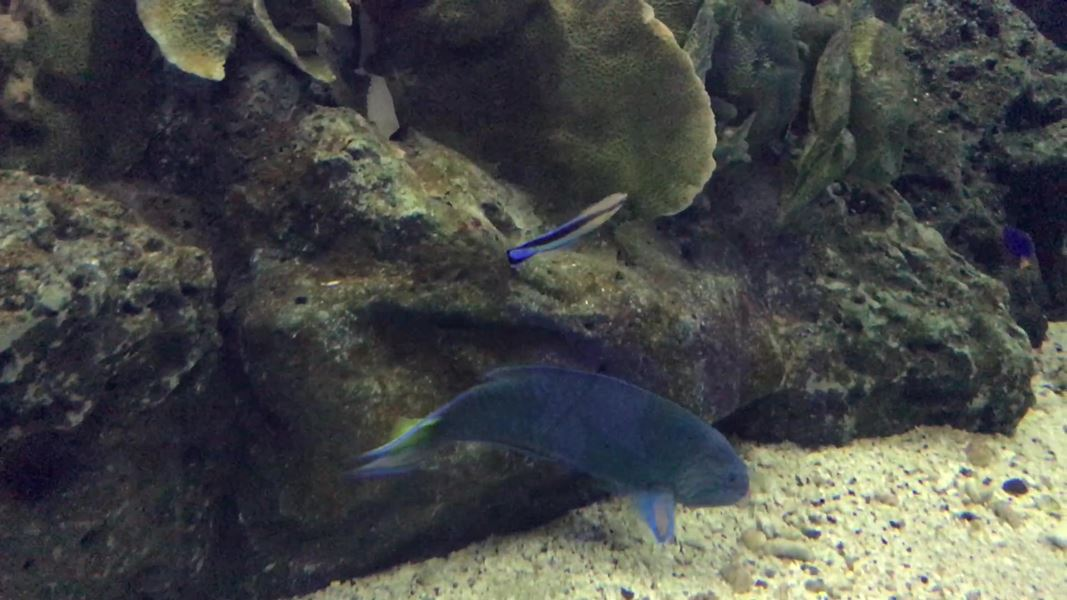Bluesteak cleaner wrasse: (499, 182, 633, 280)
